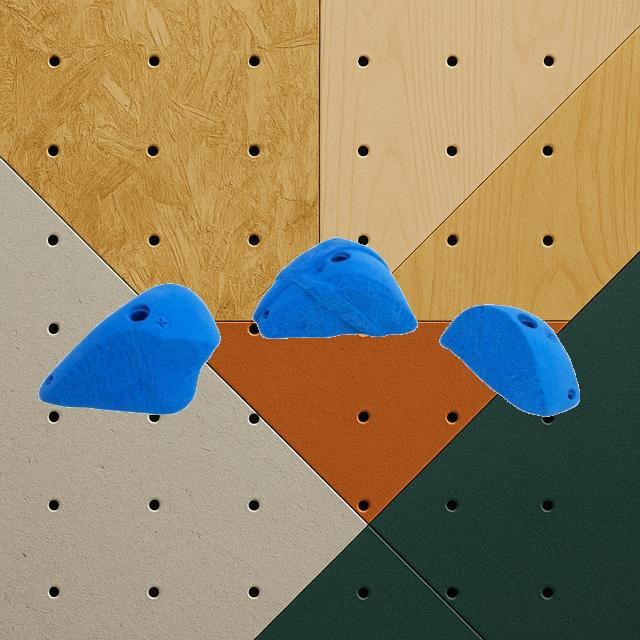Crimp: (38, 282, 220, 414), (251, 235, 417, 339), (439, 303, 581, 417)
